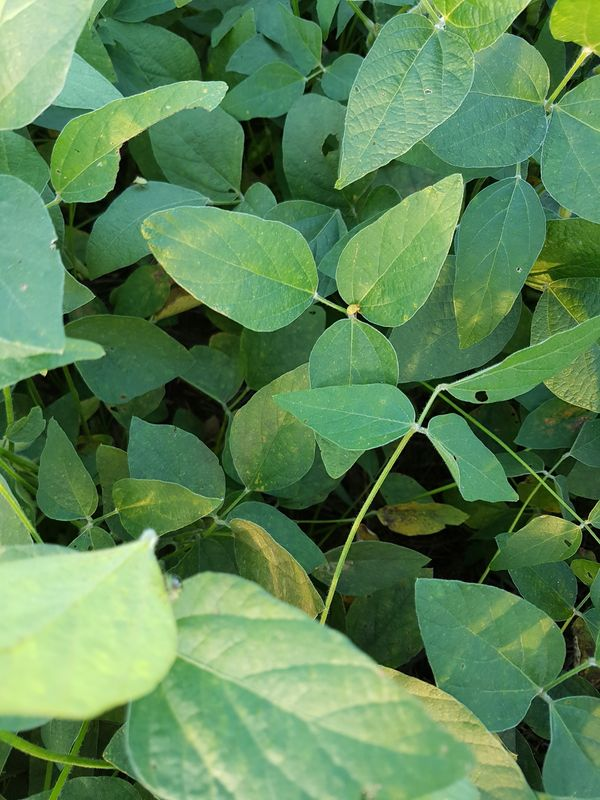Euschistus_heros_ninfa: (340, 299, 366, 322)
